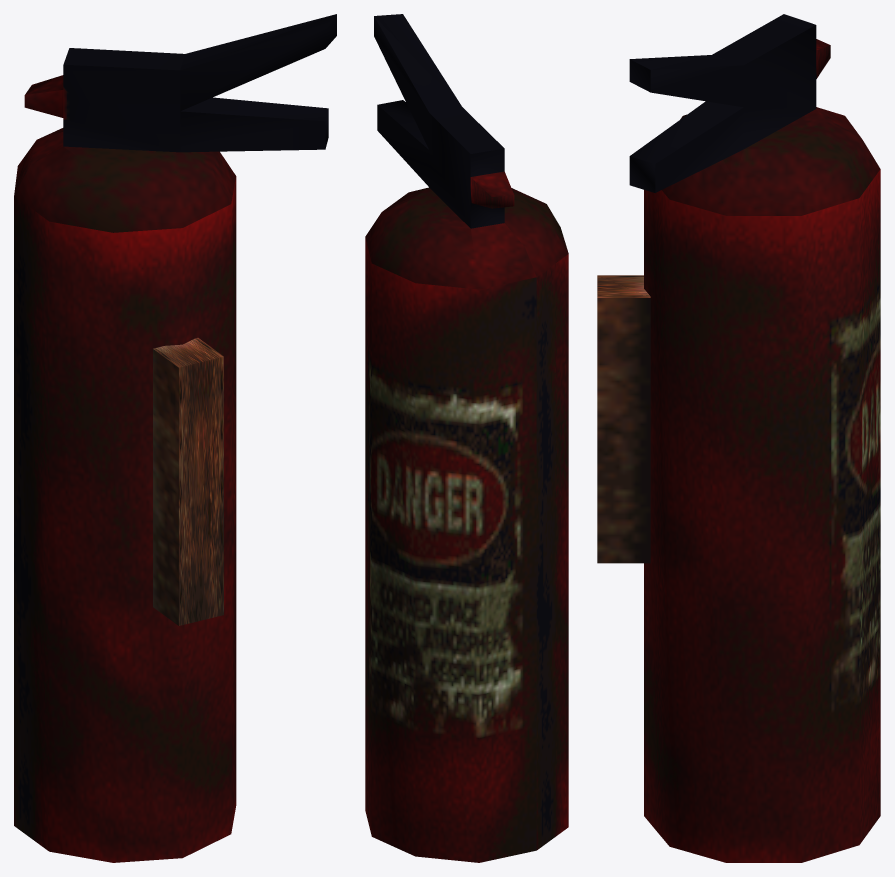
Rendered from blusser.obj.
3 renders of one model, left to right at view 1: azimuth 30°, elevation 25°; view 2: azimuth 150°, elevation 25°; view 3: azimuth 270°, elevation 25°, orthographic. The views are drawn at different scales.
Visible parts, largest first — view 1: Group; view 2: Group; view 3: Group.
Boxes of the visible parts, x1,y1,x2,y2 form: Group: (14, 14, 336, 862); Group: (365, 14, 568, 862); Group: (597, 14, 880, 862).
Bounding box in the file's own units: 11.98 × 36.67 × 11.41.
